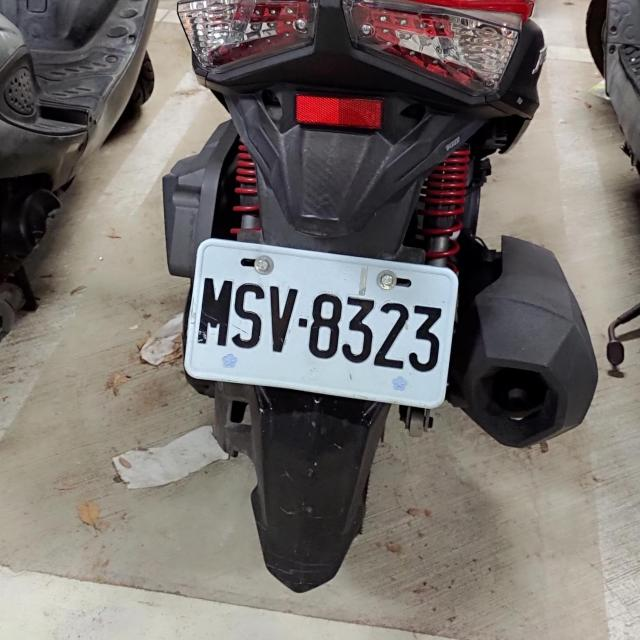W: (181, 238, 460, 404)
